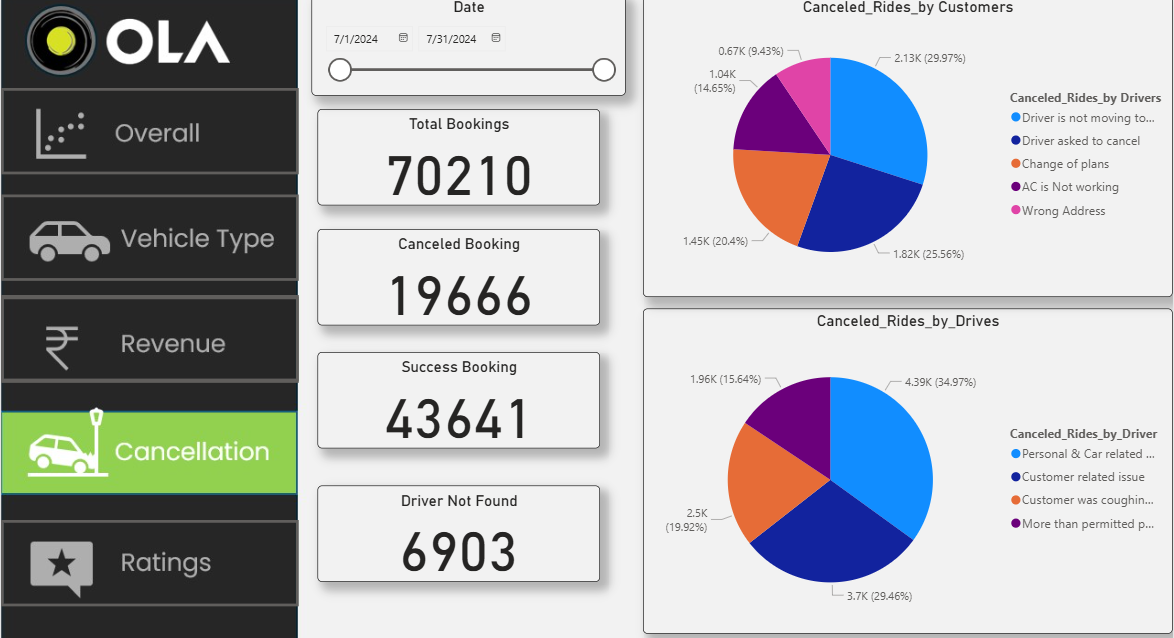

Layout of this report page (visuals, bound fields, positions):
{"tool":"powerbi","page":{"name":"Cancellation","canvas":[1280,720],"ordinal":3},"visuals":[{"type":"actionButton","box":[0,328.6,325.3,94.3],"z":0},{"type":"actionButton","box":[0,574.2,325.3,94.3],"z":1000},{"type":"actionButton","box":[0,218,325.3,94.3],"z":2000},{"type":"actionButton","box":[0,330.2,325.3,94.3],"z":3000},{"type":"actionButton","box":[0,100.8,325.3,94.3],"z":4000},{"type":"pieChart","title":" Canceled_Rides_by Customers","fields":{"Category":["uber.Canceled_Rides_by_Customer"],"Y":["CountNonNull(uber.Booking_ID)"]},"box":[701.7,0,578.3,330],"z":5000},{"type":"pieChart","title":"Canceled_Rides_by_Drives","fields":{"Category":["uber.Canceled_Rides_by_Driver"],"Y":["CountNonNull(uber.Booking_ID)"]},"box":[701.7,343.3,578.3,355],"z":6000},{"type":"slicer","title":"Date","fields":{"Values":["uber.datee"]},"box":[340,0,343.3,110],"z":7000},{"type":"card","title":"Total Bookings","fields":{"Values":["Count(uber.Booking_ID)"]},"box":[345,125,308.3,105],"z":8000},{"type":"card","title":"Canceled Booking","fields":{"Values":["Count(uber.Booking_ID)"]},"box":[345,255,308.3,105],"z":9000},{"type":"card","title":"Success Booking","fields":{"Values":["Count(uber.Booking_ID)"]},"box":[345,390,308.3,105],"z":10000},{"type":"card","title":"Driver Not Found","fields":{"Values":["Count(uber.Booking_ID)"]},"box":[345,536.7,308.3,105],"z":11000}]}

Visuals, with their boxes on the page's 1280x720 design canvas (x1, y1, x2, y2). These are canvas units, not pixel positions in the 1174x638 screenshot, which may show the page scaled, cropped or inside an application window:
actionButton: <box>0,329,325,423</box>
actionButton: <box>0,574,325,668</box>
actionButton: <box>0,218,325,312</box>
actionButton: <box>0,330,325,424</box>
actionButton: <box>0,101,325,195</box>
" Canceled_Rides_by Customers" pieChart: <box>702,0,1280,330</box>
"Canceled_Rides_by_Drives" pieChart: <box>702,343,1280,698</box>
"Date" slicer: <box>340,0,683,110</box>
"Total Bookings" card: <box>345,125,653,230</box>
"Canceled Booking" card: <box>345,255,653,360</box>
"Success Booking" card: <box>345,390,653,495</box>
"Driver Not Found" card: <box>345,537,653,642</box>
